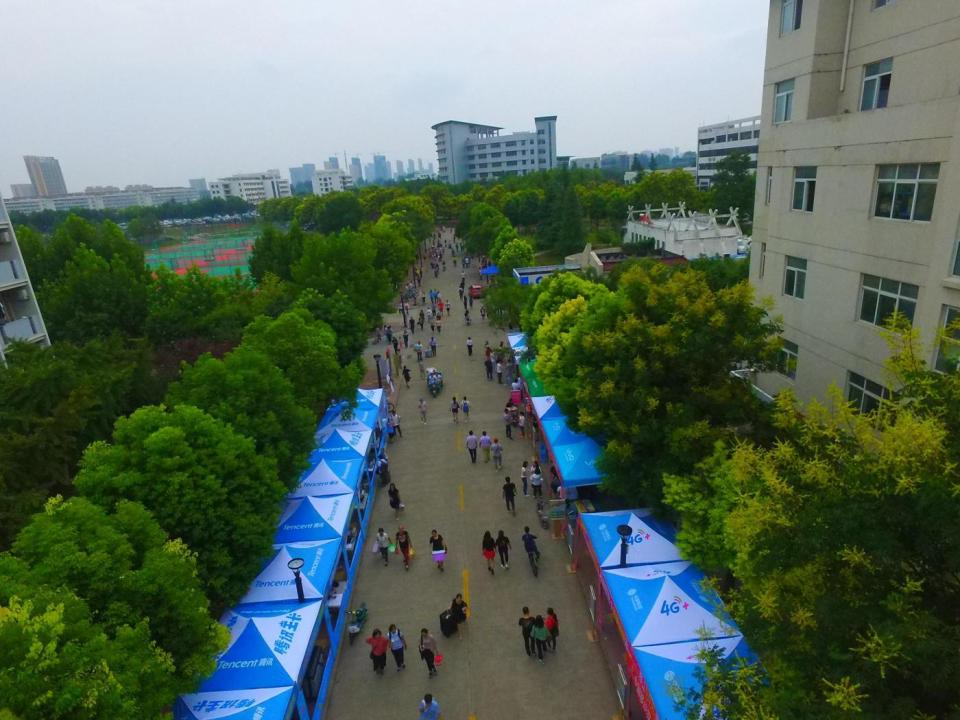car: (426, 369, 442, 398), (468, 285, 485, 299)
